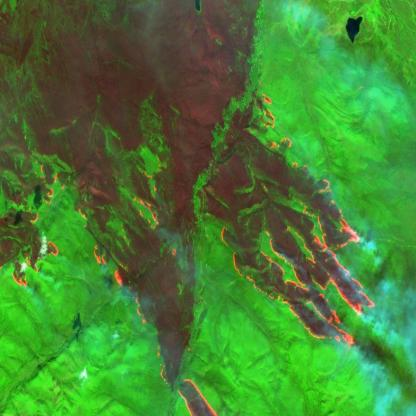fire: (216, 88, 376, 352), (7, 158, 178, 288), (170, 367, 221, 416)
